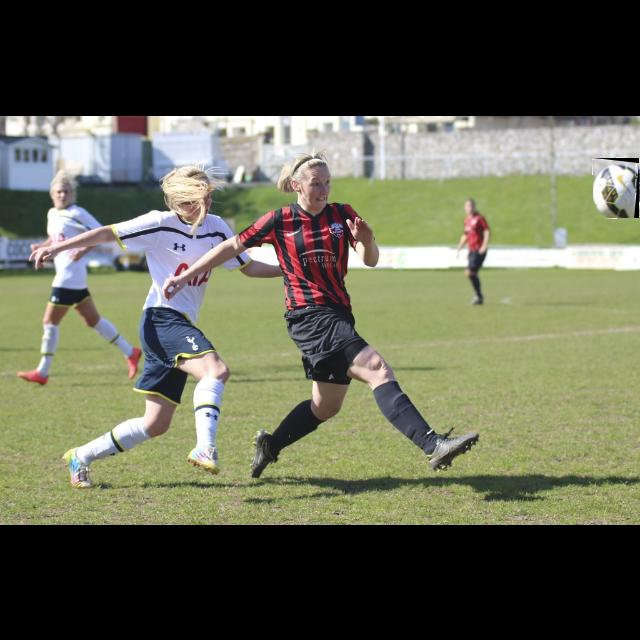Football: (593, 158, 639, 218)
